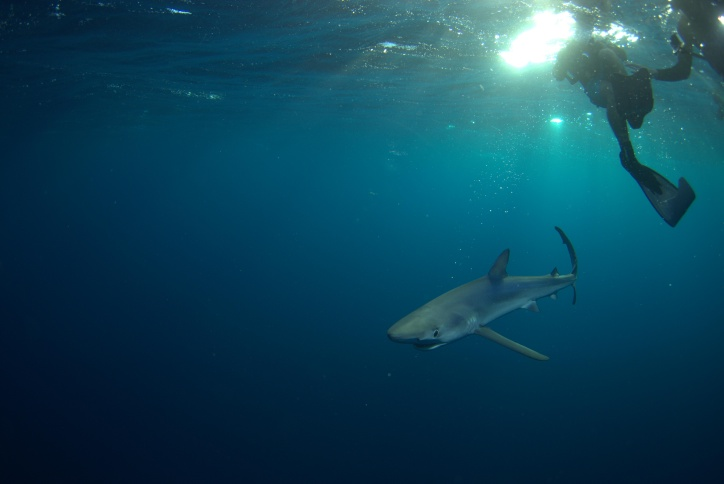Azul: (354, 217, 588, 387)
